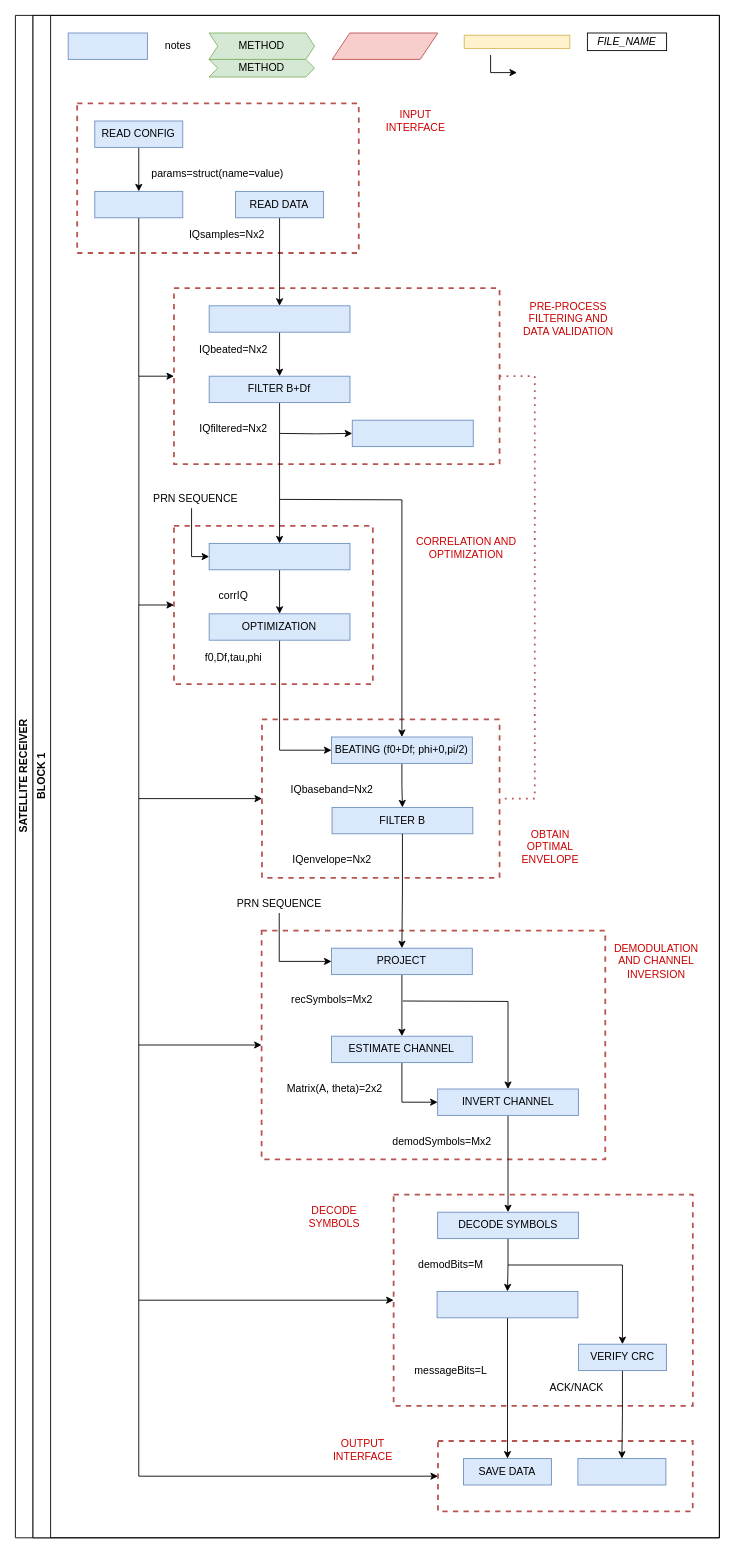
Some shapes in this 735 by 1553 pixel diagram are drawn without their labels. Here are the shapes that lost their labels. From the top down, the centre of each, then its label:
[107,45]: LOGIC BLOCK
[384,45]: CLASS
[516,41]: PROPERTY
[138,204]: VALIDATE
[279,318]: BEATING (f0; 0,pi/2)
[412,433]: VALIDATE and SHOW
[279,556]: CORRELATION (Df + tau)
[507,1304]: REMOVE SYNC AND CRC
[621,1471]: SAVE ACK/NACK
